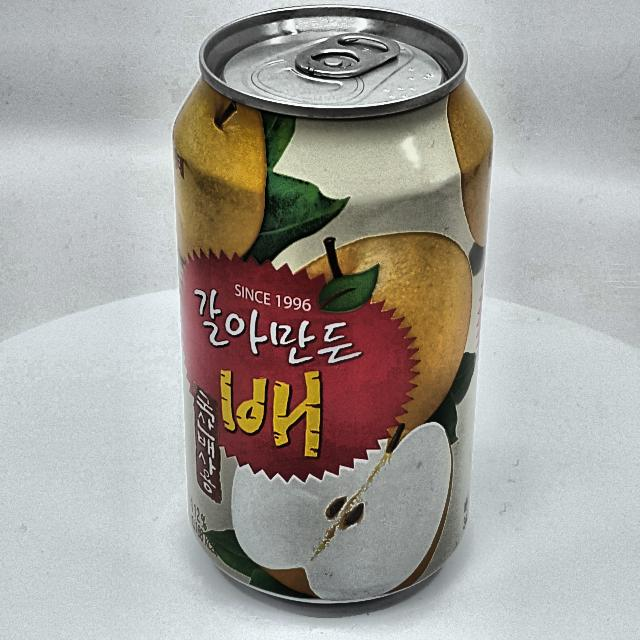galamandeunbae: (167, 75, 499, 609)
